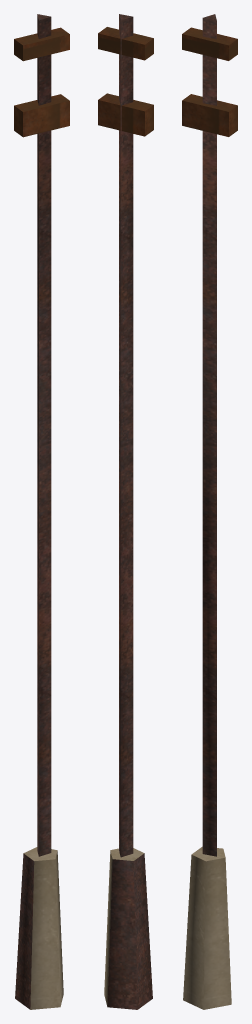
File: SM_Lamppost_02.FBX
The picture shows the model from 3 angles, left to right: view 1: azimuth 30°, elevation 25°; view 2: azimuth 150°, elevation 25°; view 3: azimuth 330°, elevation 25°; orthographic projection.
Visible parts, largest first — view 1: SM_Lamppost_02; view 2: SM_Lamppost_02; view 3: SM_Lamppost_02.
Boxes of the visible parts, box(x1,y1,x2,y2) form: SM_Lamppost_02: box(14, 14, 69, 1009); SM_Lamppost_02: box(98, 14, 153, 1009); SM_Lamppost_02: box(182, 14, 237, 1009).
Size of the model in its own units: 18.6 by 17.17 by 373.
